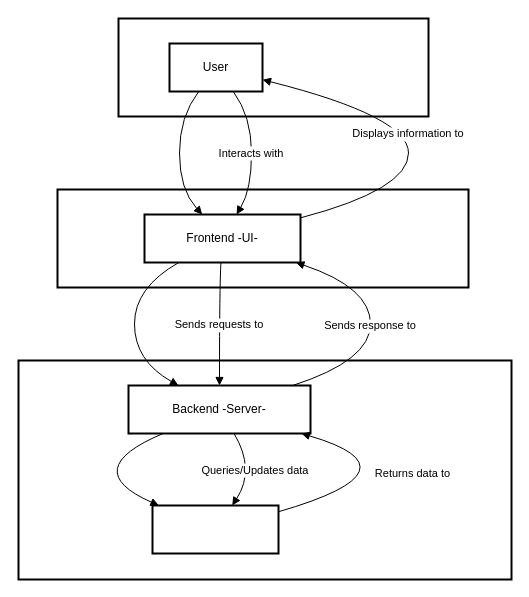
Image size: 529x597. Some labels were removed from this diagram. The shapes that lost their labels are listed below. From the top down, each one's box as (x1, y1, x2, y2) in pixels, then its label:
(117, 17, 429, 117): User Interactions
(151, 504, 279, 554): Database
